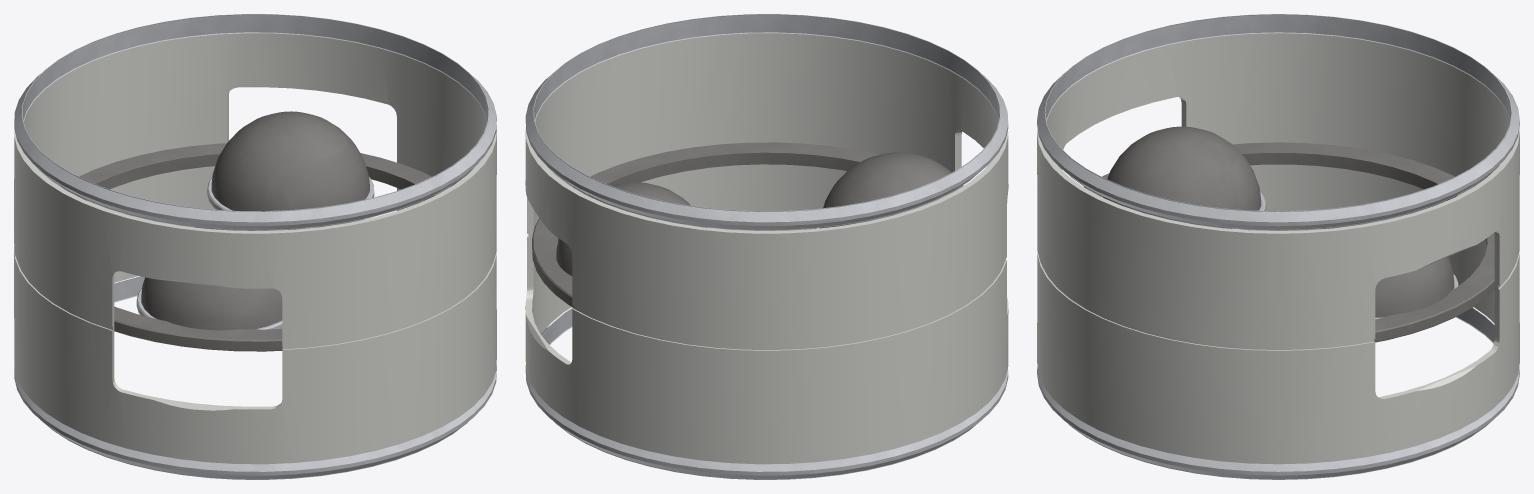
File: ax_tank_04_header_section_l.glb
3 views of the same model, side by side, from view 1: azimuth 30°, elevation 25°; view 2: azimuth 150°, elevation 25°; view 3: azimuth 270°, elevation 25° (orthographic).
Visible parts, largest first — view 1: barrel, end_rings, header_tanks, ring_frame, tank_girth_rings; view 2: barrel, end_rings, ring_frame, header_tanks; view 3: barrel, end_rings, header_tanks, ring_frame.
Part boxes in pixels (x1,y1,x2,y2): barrel: (14, 33, 496, 464); end_rings: (14, 14, 496, 479); header_tanks: (141, 111, 369, 330); ring_frame: (61, 143, 449, 351); tank_girth_rings: (136, 177, 374, 329); barrel: (525, 33, 1008, 464); end_rings: (525, 14, 1008, 479); ring_frame: (532, 142, 879, 307); header_tanks: (556, 152, 963, 275); barrel: (1037, 33, 1519, 464); end_rings: (1037, 14, 1519, 479); header_tanks: (1103, 126, 1454, 317); ring_frame: (1084, 142, 1494, 342).
Size of the model in its own units: 3.75 by 2.3 by 3.75.
Materials: 3 (2 with a texture image).
